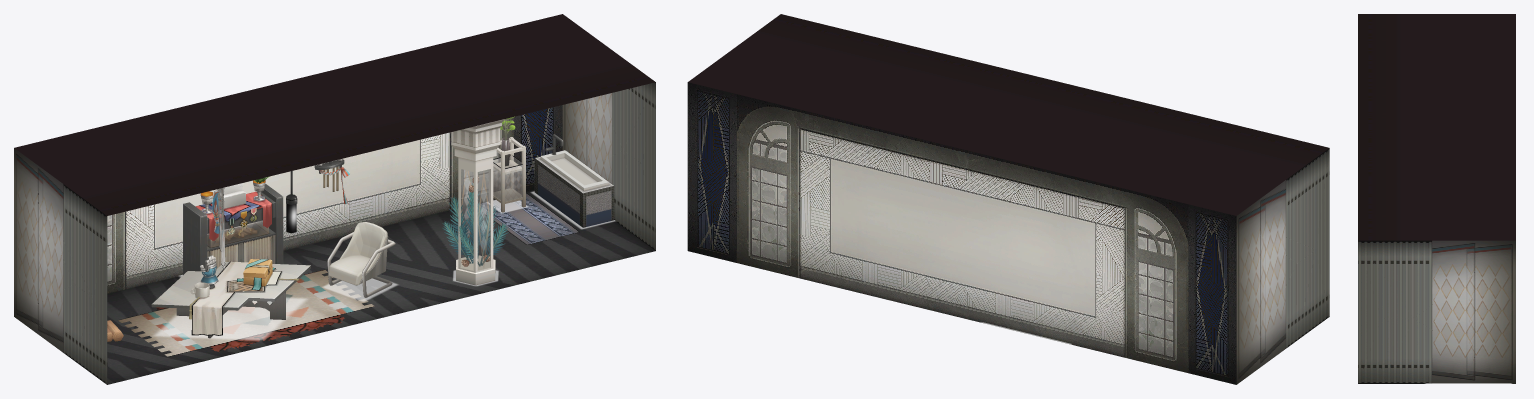
The model's file is knights.glb.
3 renders of one model, left to right at view 1: azimuth 30°, elevation 25°; view 2: azimuth 150°, elevation 25°; view 3: azimuth 270°, elevation 25°, orthographic. The views are drawn at different scales.
Parts seen in each view (by area): view 1: ROOM_room, ROOM_floor, furni_knights_carpet1_01, furni_knights_cabinet_01, furni_knights_table_01, furni_knights_sink_01, furni_knights_column_01, furni_knights_sofa_01, shadow, furni_knights_carpet2_01, furni_knights_column_02, furni_knights_table_02 (+8 smaller); view 2: ROOM_room, ROOM_LDoor; view 3: ROOM_room, ROOM_RDoor.
Part boxes in pixels (x1,y1,x2,y2): ROOM_room: (14, 14, 655, 384); ROOM_floor: (107, 190, 655, 384); furni_knights_carpet1_01: (118, 269, 374, 356); furni_knights_cabinet_01: (183, 180, 283, 274); furni_knights_table_01: (151, 255, 310, 338); furni_knights_sink_01: (534, 134, 614, 227); furni_knights_column_01: (451, 119, 504, 285); furni_knights_sofa_01: (327, 222, 395, 297); shadow: (154, 297, 307, 340); furni_knights_carpet2_01: (478, 193, 579, 244); furni_knights_column_02: (442, 183, 508, 266); furni_knights_table_02: (191, 259, 275, 335); ROOM_room: (687, 14, 1329, 384); ROOM_LDoor: (1296, 250, 1315, 340); ROOM_room: (1358, 14, 1515, 383); ROOM_RDoor: (1381, 318, 1413, 383).
Size of the model in its own units: 7.54 by 2.2 by 2.25.
9 materials, 9 textured.
